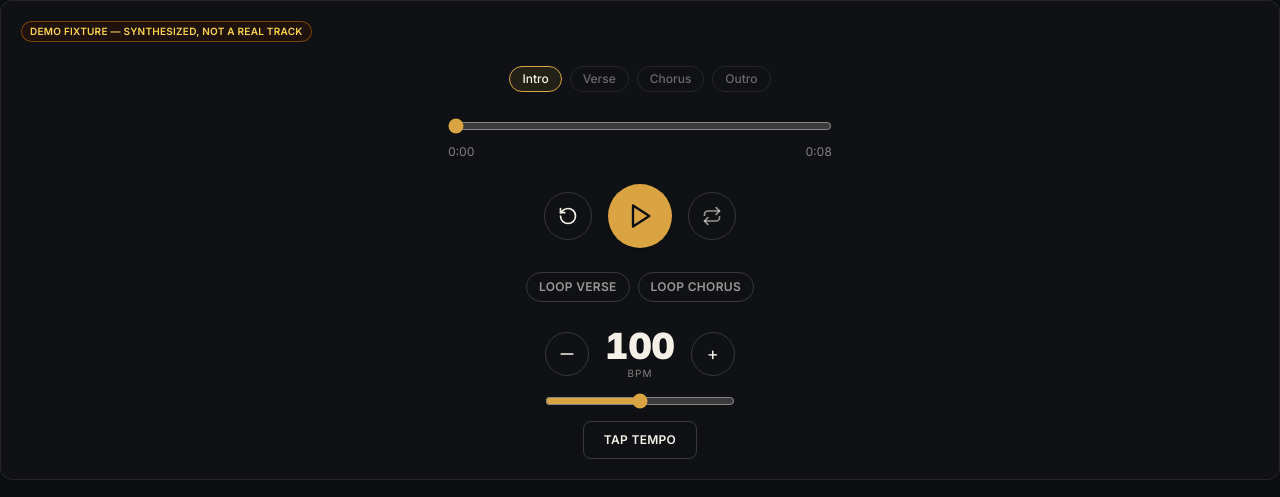
Scenario: LoopPlayer › play/pause toggles the transport button
Step 1. Click the button named "Play" → (640, 216), box 608,184 -> 672,248
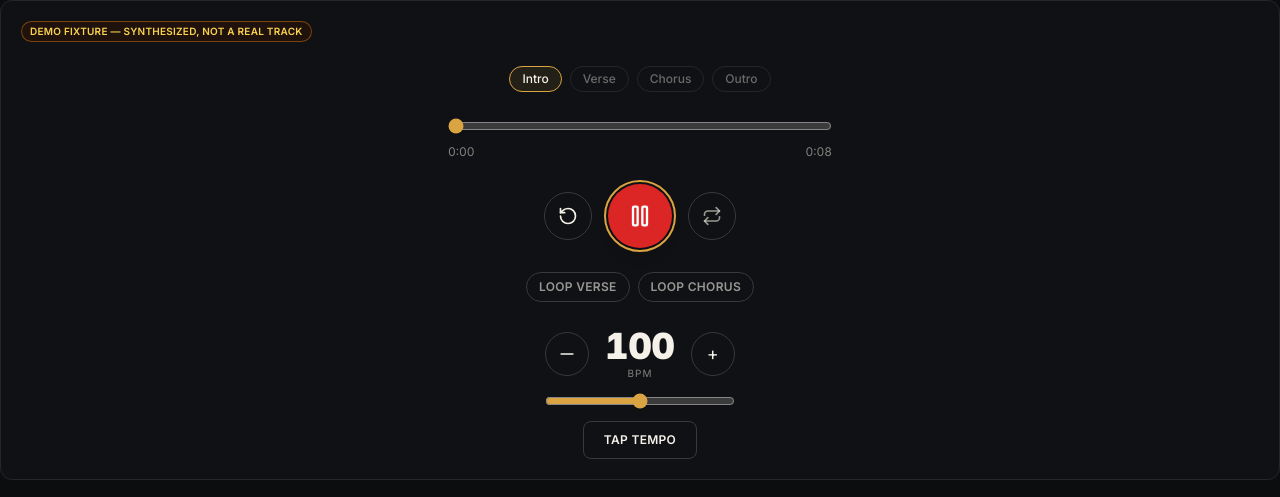
Check: the button named "Pause" is shown
Step 2. Click the button named "Pause" → (640, 216), box 608,184 -> 672,248
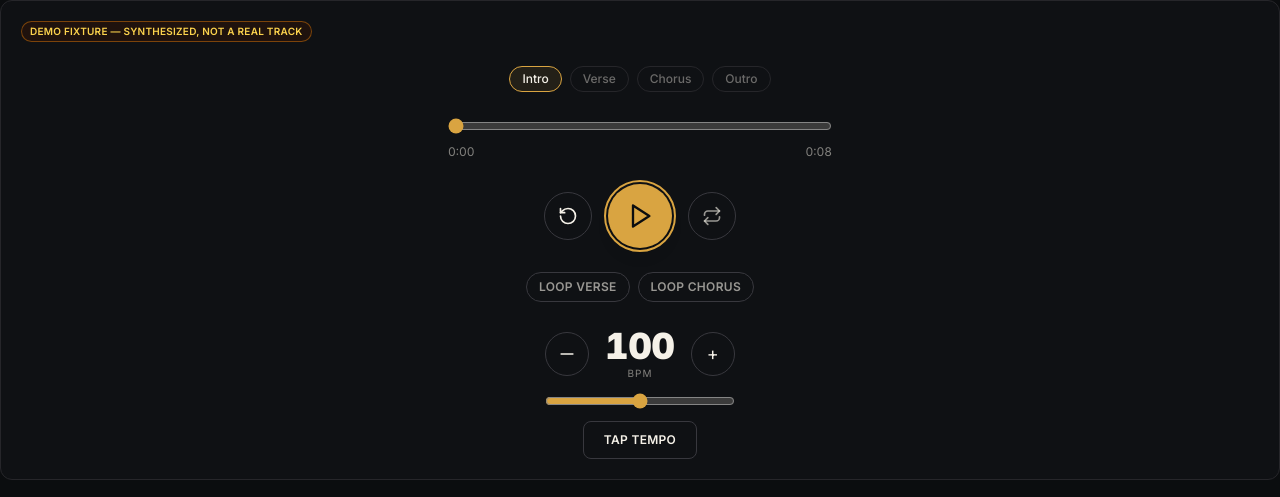
Check: the button named "Play" is shown, box 608,184 -> 672,248
